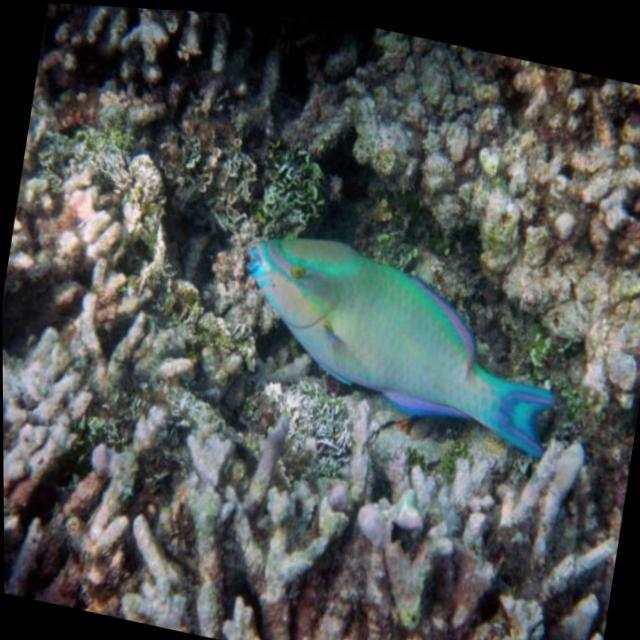Dead Coral: (2, 331, 630, 640), (482, 49, 640, 277)
